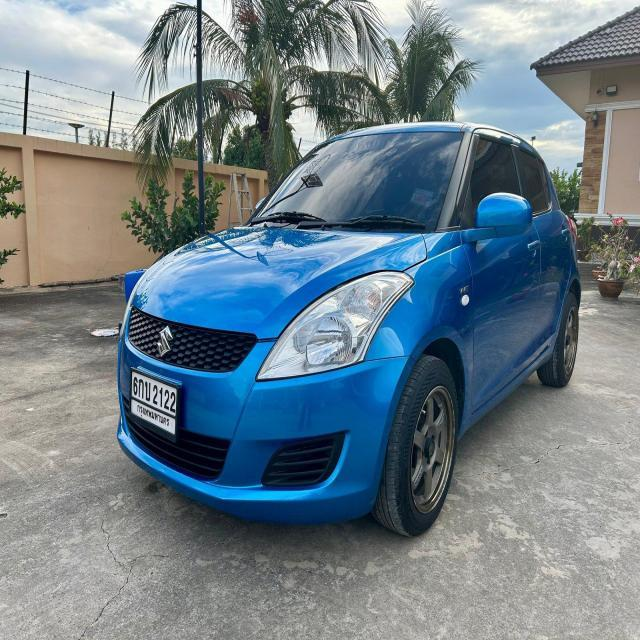Hatchback: (117, 122, 580, 535)
